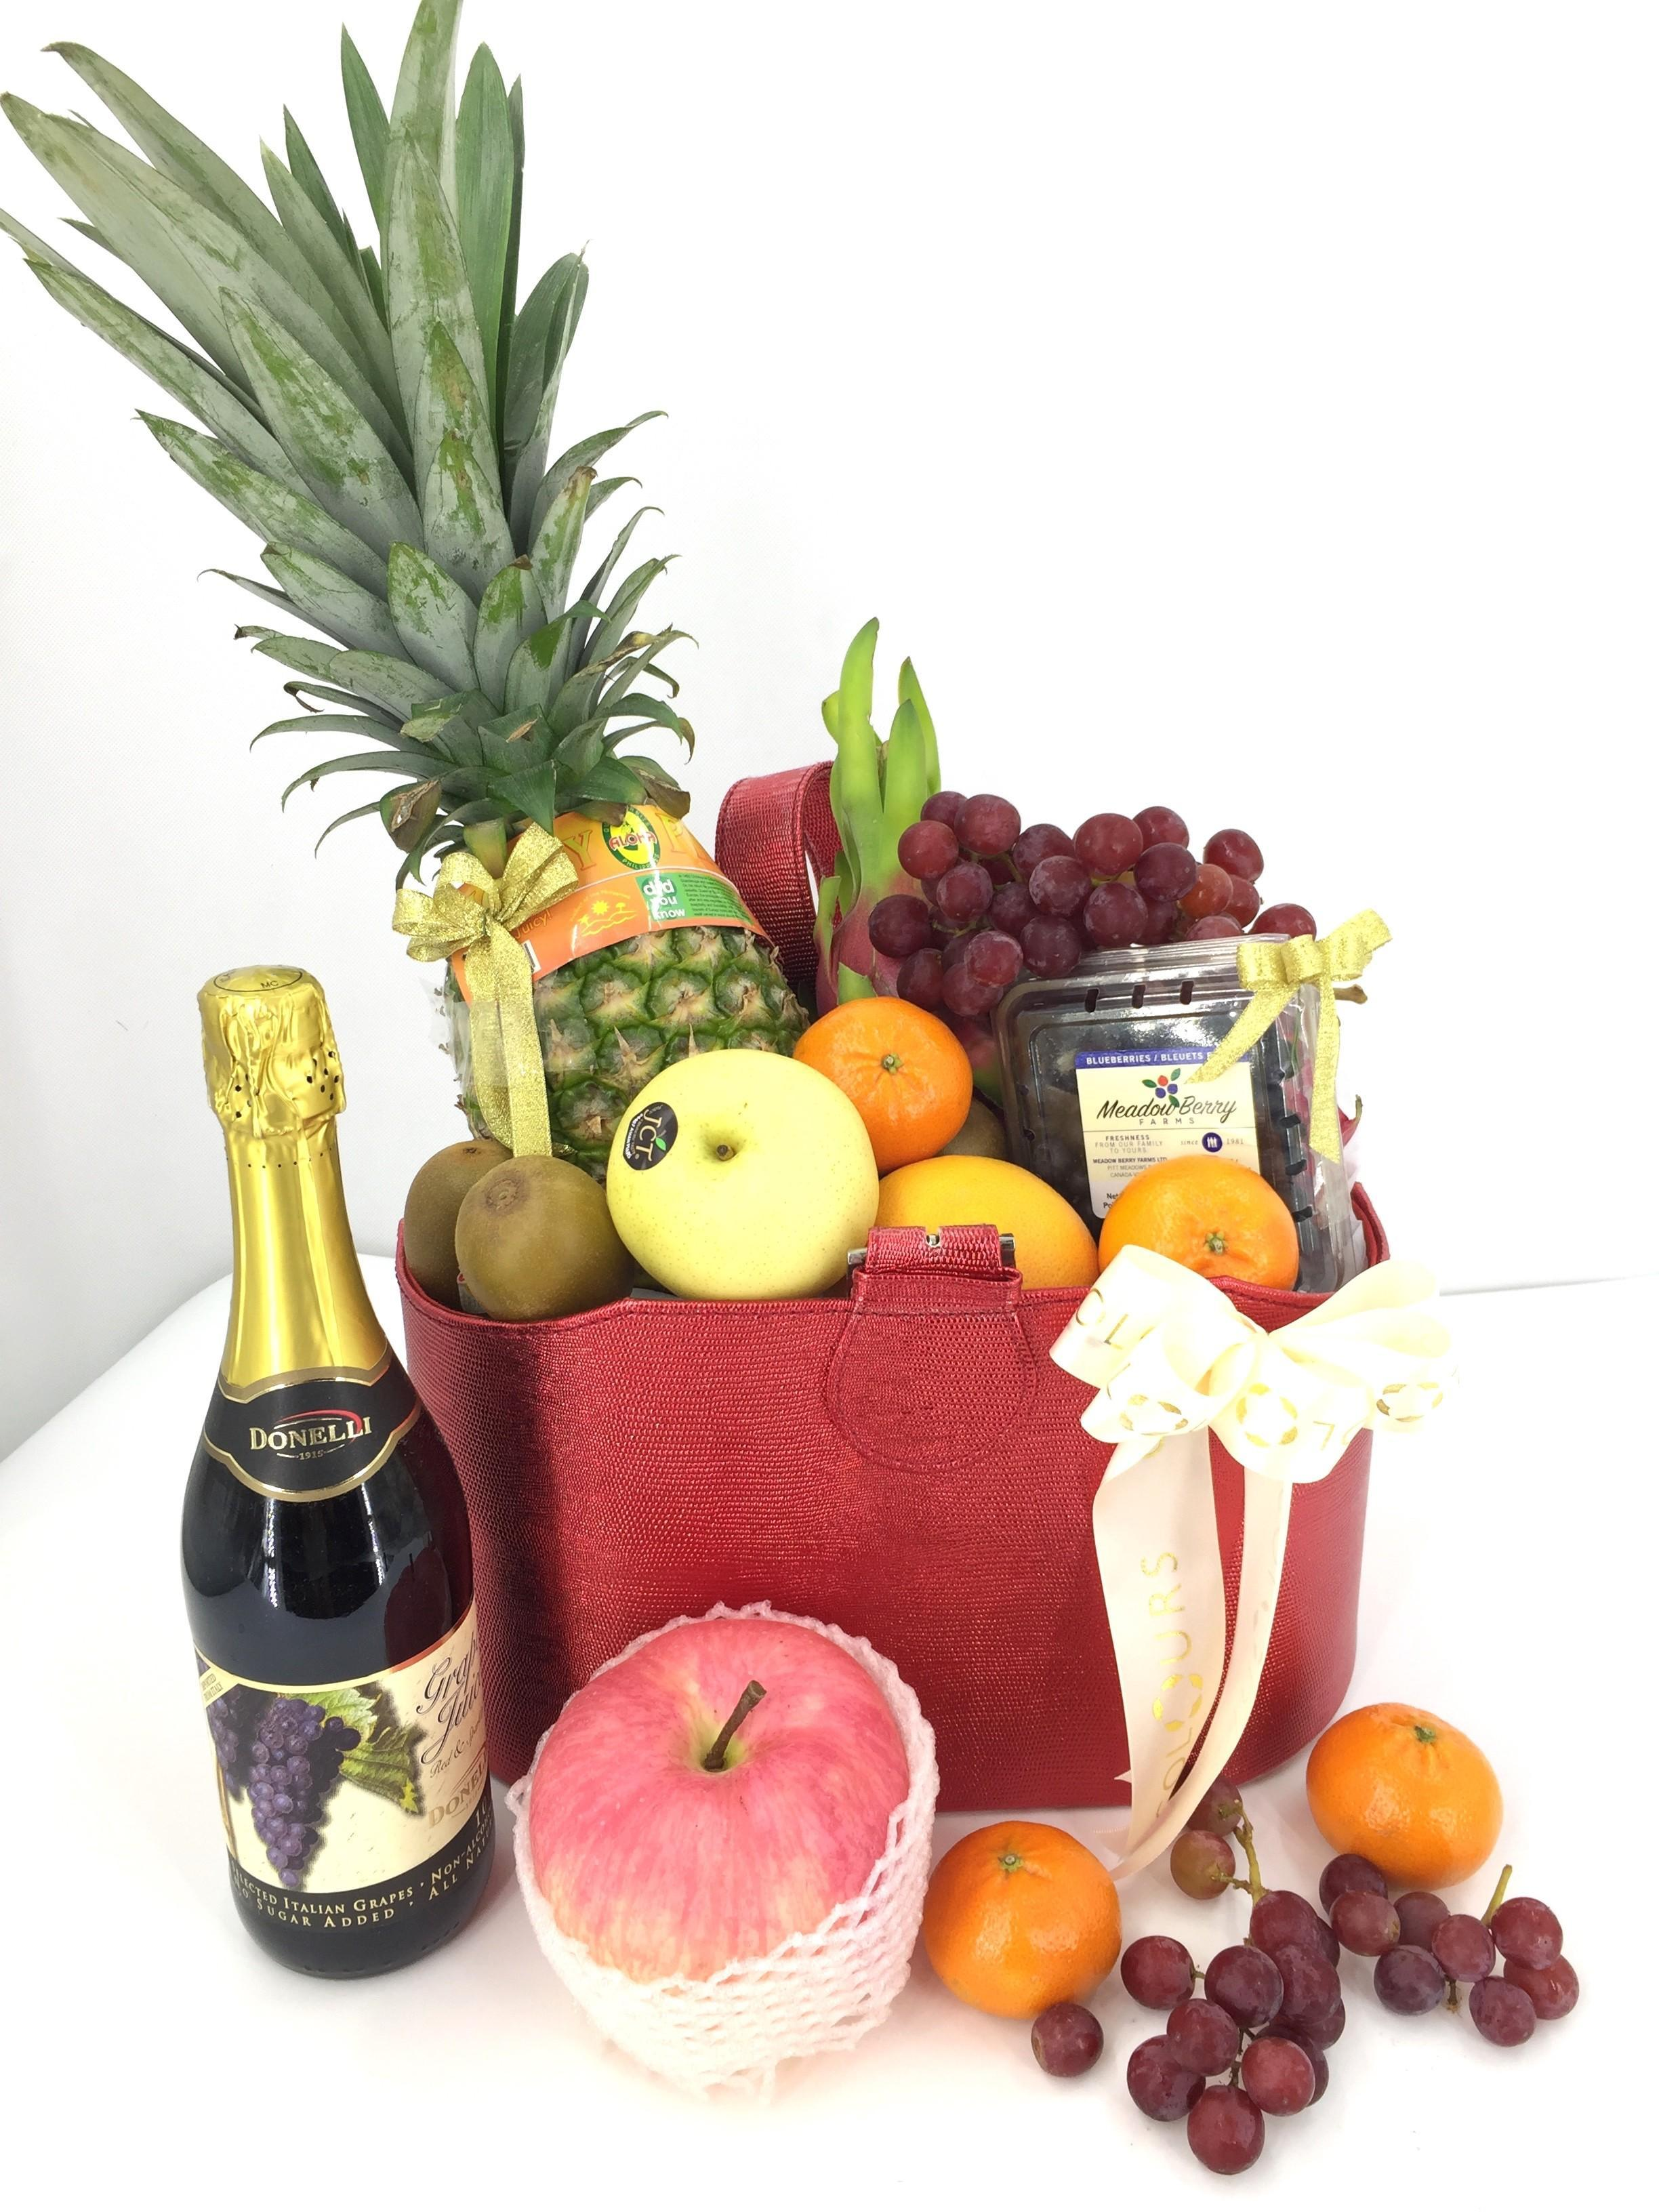apple: (512, 1599, 941, 2099)
